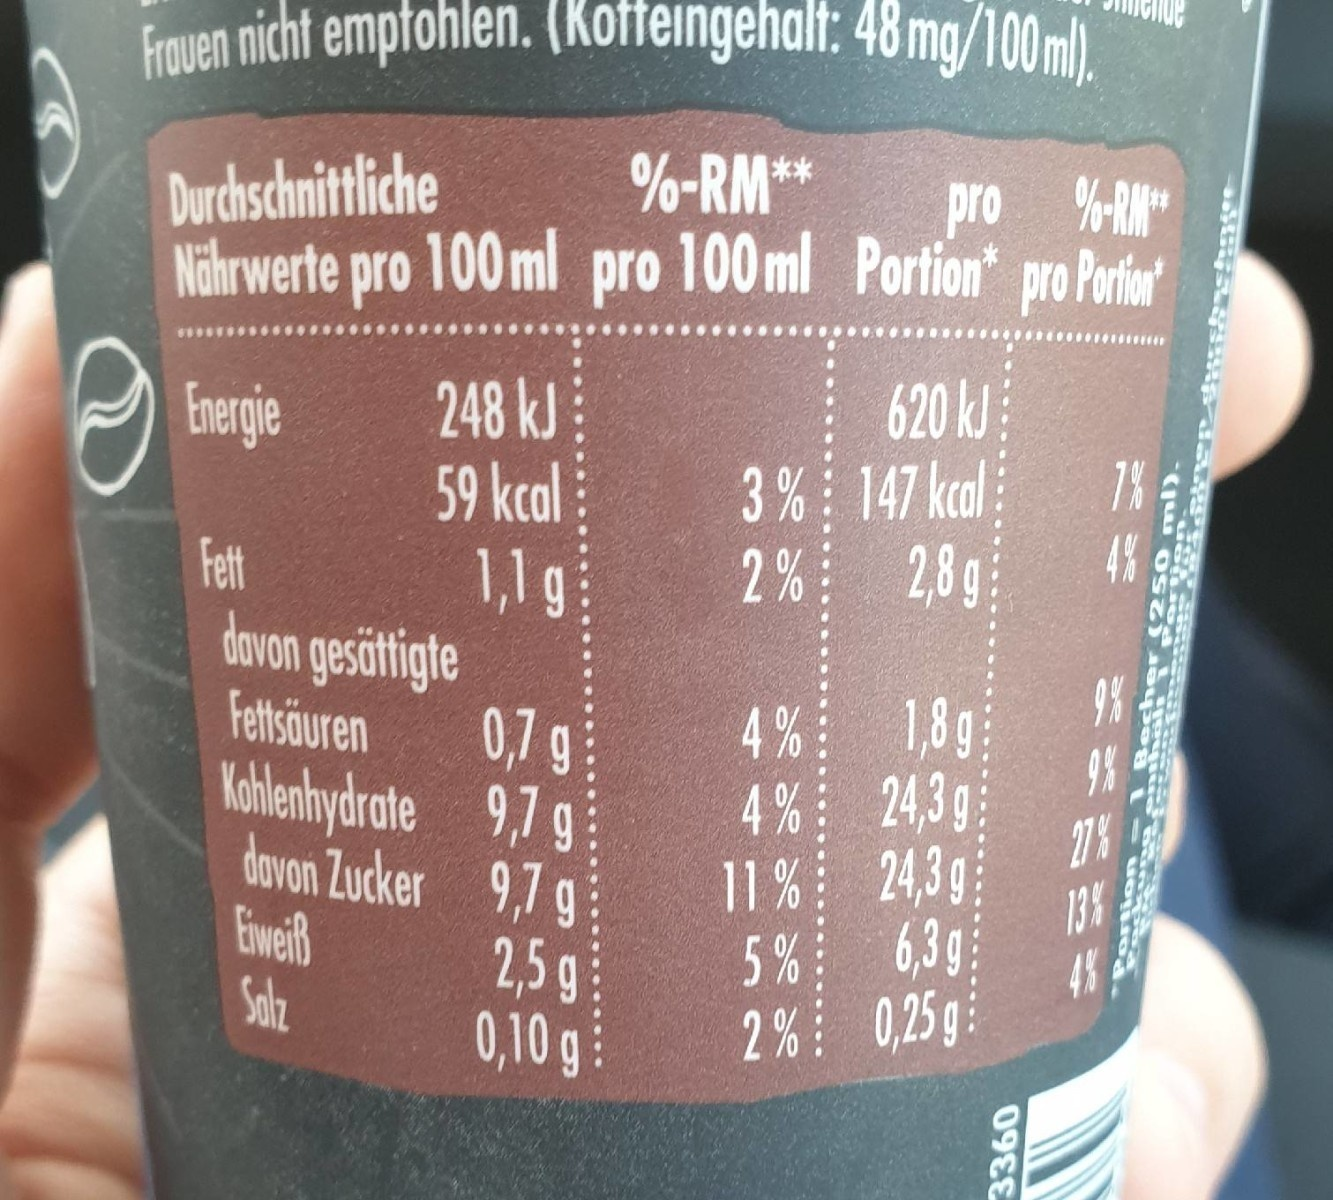column: (164, 107, 574, 1104), (593, 109, 811, 1107), (1021, 102, 1174, 1104), (847, 107, 993, 1102)
table: (147, 105, 1192, 1108)
